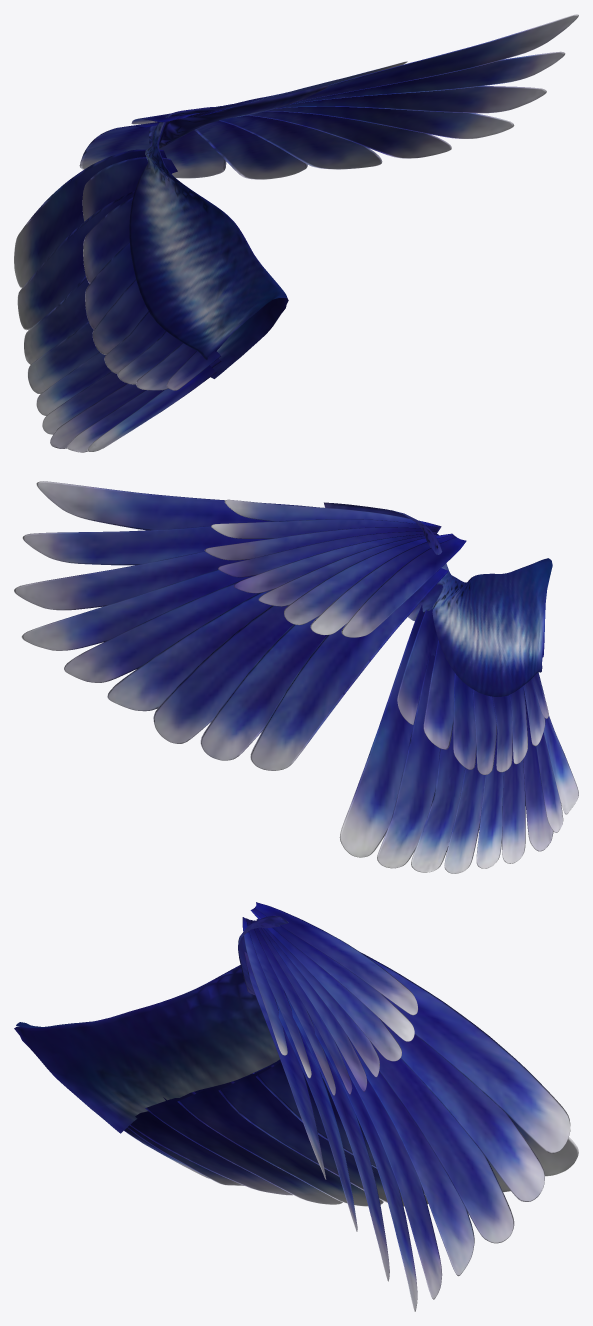
The model's file is AlaDer2.obj.
3 views of the same model, one above another, from view 1: azimuth 30°, elevation 25°; view 2: azimuth 150°, elevation 25°; view 3: azimuth 270°, elevation 25° (orthographic). The views are drawn at different scales.
Visible parts, largest first — view 1: pajaro_azul.006; view 2: pajaro_azul.006; view 3: pajaro_azul.006.
Part boxes in pixels (x1,y1,x2,y2): pajaro_azul.006: (14,14,578,452); pajaro_azul.006: (14,481,578,873); pajaro_azul.006: (14,902,578,1311).
Bounding box in the file's own units: 25.1 × 13.96 × 20.05.
Materials: 2 (2 with a texture image).
